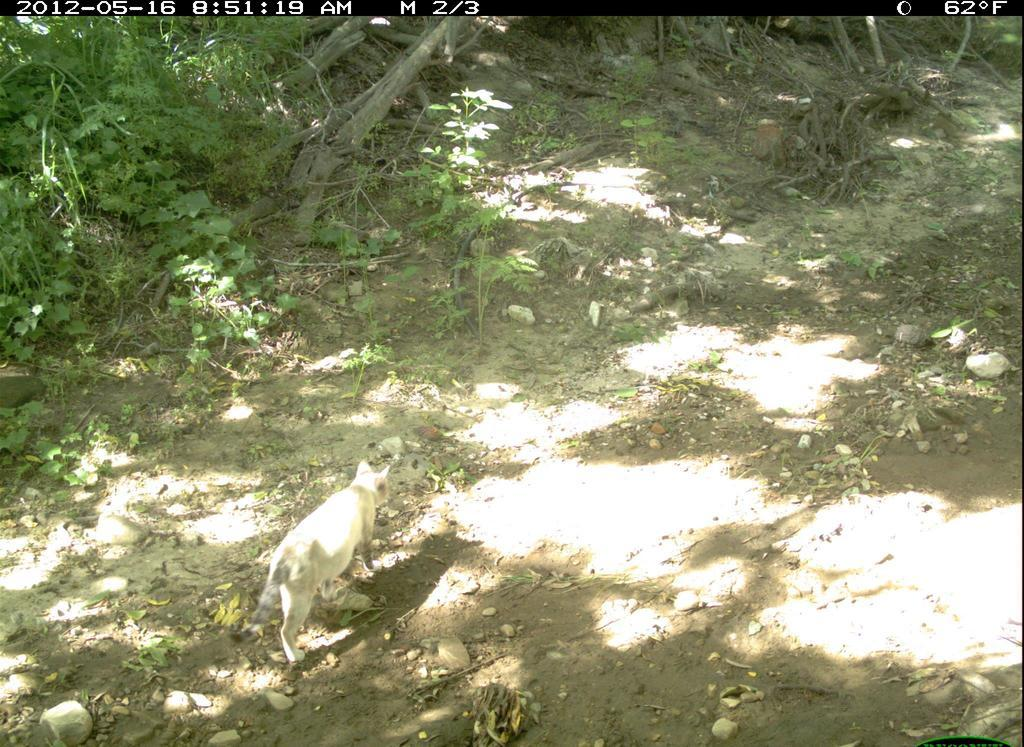cat: (214, 454, 405, 674)
